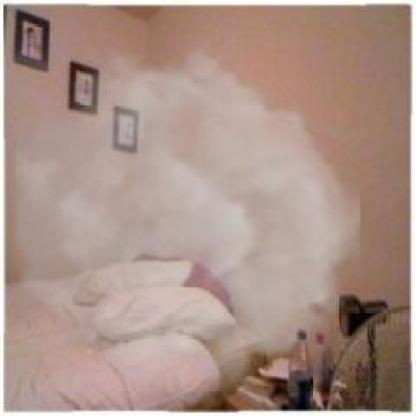Smoke: (14, 34, 360, 398)
